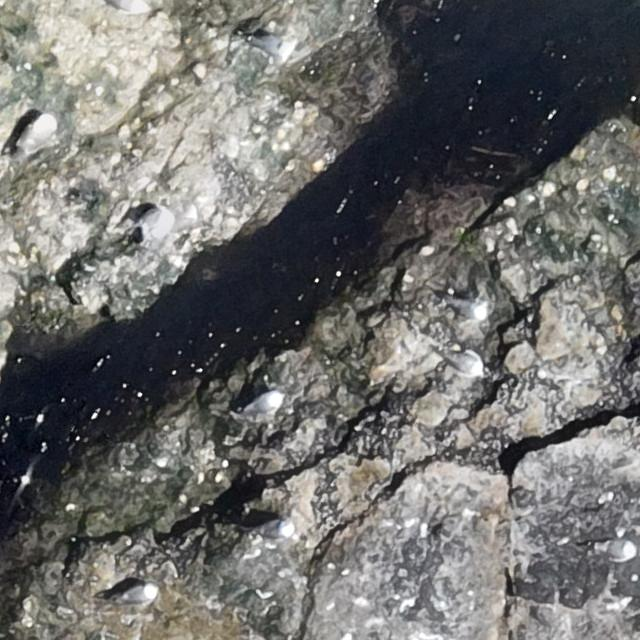umineko: (18, 110, 57, 159), (124, 212, 174, 246), (441, 346, 488, 376), (252, 34, 300, 61), (448, 297, 490, 322), (256, 519, 298, 542), (575, 540, 635, 556), (120, 584, 155, 602), (250, 394, 281, 414)
